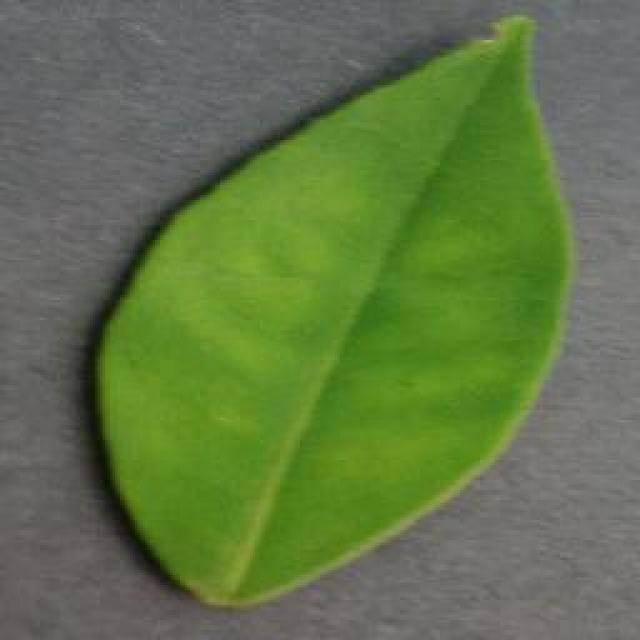Orange_Haunglongbing_Citrus_greening: (154, 116, 511, 519)
